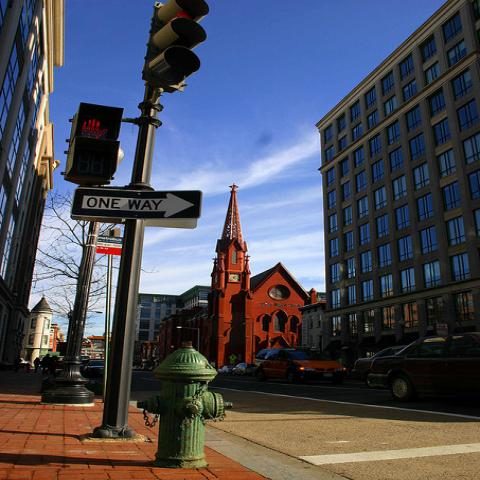car: (369, 332, 479, 400), (250, 348, 349, 384), (356, 346, 402, 370), (81, 360, 105, 376), (229, 362, 251, 376), (217, 366, 234, 376), (80, 359, 88, 370), (148, 366, 156, 371)
